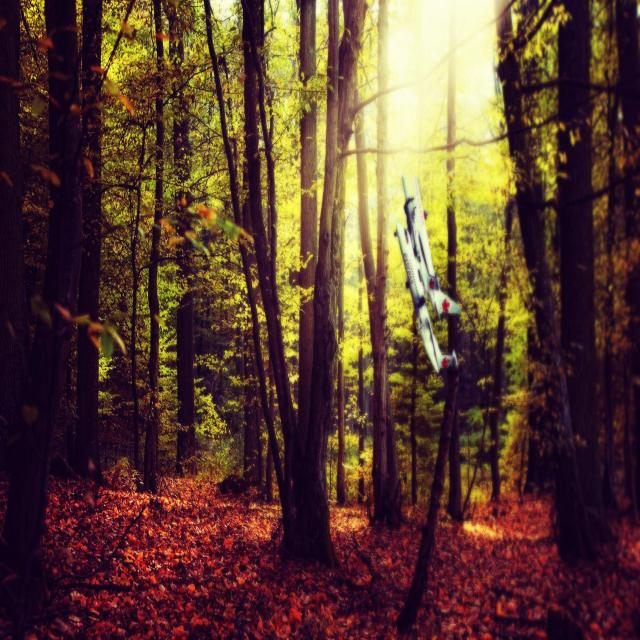airplane: (393, 174, 461, 376)
